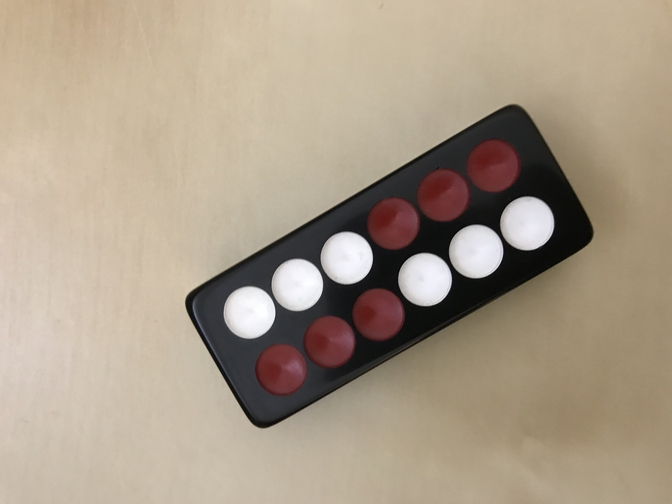heaven: (184, 105, 594, 428)
